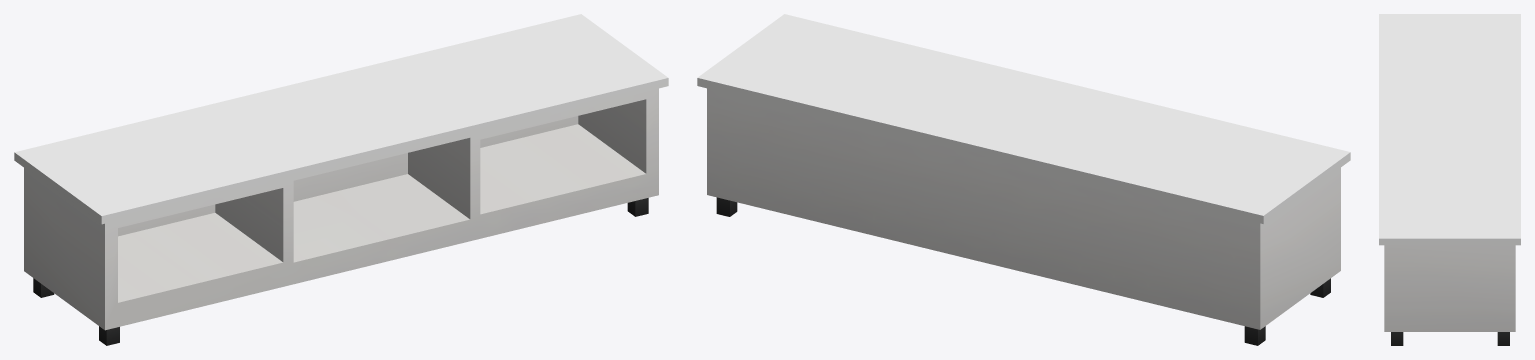
The model's file is SideboardCabinet_A_Open_WhiteGray.fbx.
3 views of the same model, side by side, from view 1: azimuth 30°, elevation 25°; view 2: azimuth 150°, elevation 25°; view 3: azimuth 270°, elevation 25° (orthographic). The views are drawn at different scales.
Visible parts, largest first — view 1: SideboardCabinet_A_Open_WhiteGray; view 2: SideboardCabinet_A_Open_WhiteGray; view 3: SideboardCabinet_A_Open_WhiteGray.
Boxes of the visible parts, <box> form: SideboardCabinet_A_Open_WhiteGray: <box>14,14,668,345</box>; SideboardCabinet_A_Open_WhiteGray: <box>697,14,1350,345</box>; SideboardCabinet_A_Open_WhiteGray: <box>1379,14,1520,345</box>.
Size of the model in its own units: 300 by 69.86 by 80.
